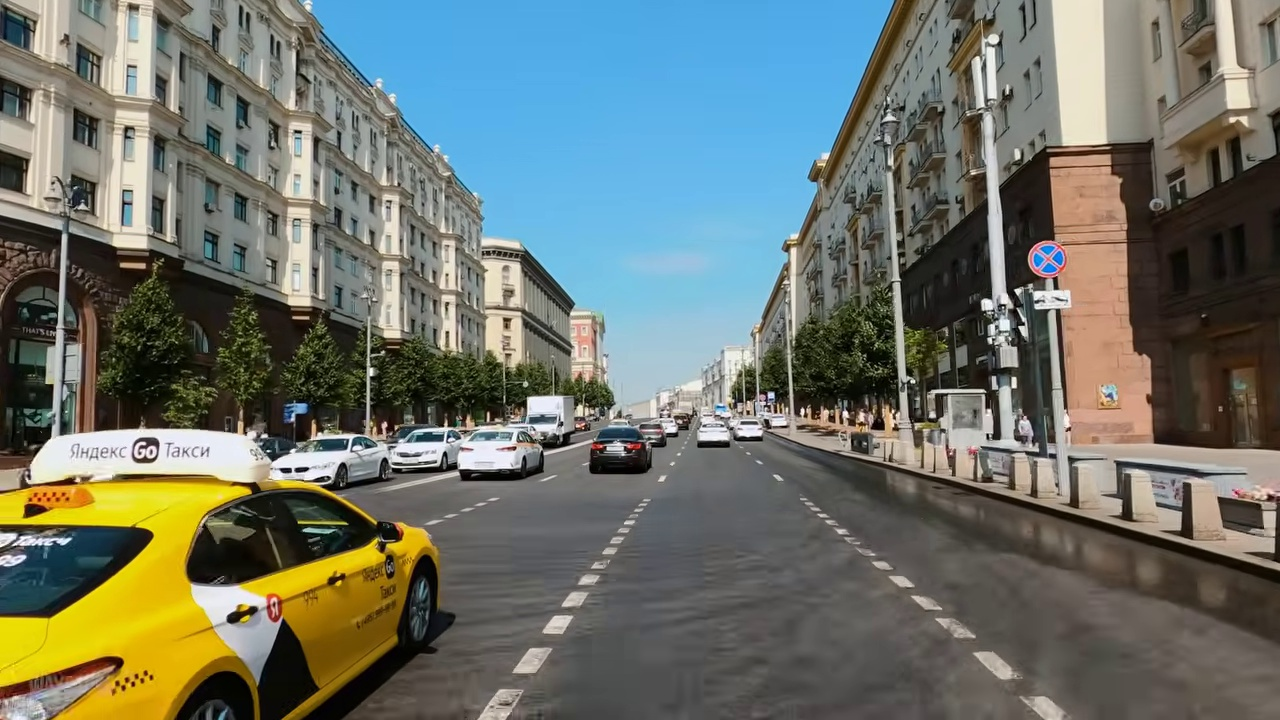apagada: (46, 182, 85, 223)
